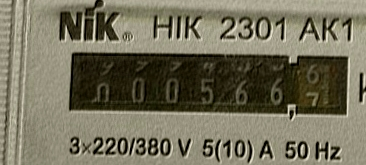0: (163, 77, 181, 106), (129, 75, 146, 104), (93, 80, 112, 103)
5: (198, 77, 216, 106)
6: (267, 76, 286, 107), (231, 78, 250, 107), (305, 63, 321, 88)
7: (304, 91, 320, 109)
9: (97, 58, 115, 78)
screen: (60, 46, 353, 125)
